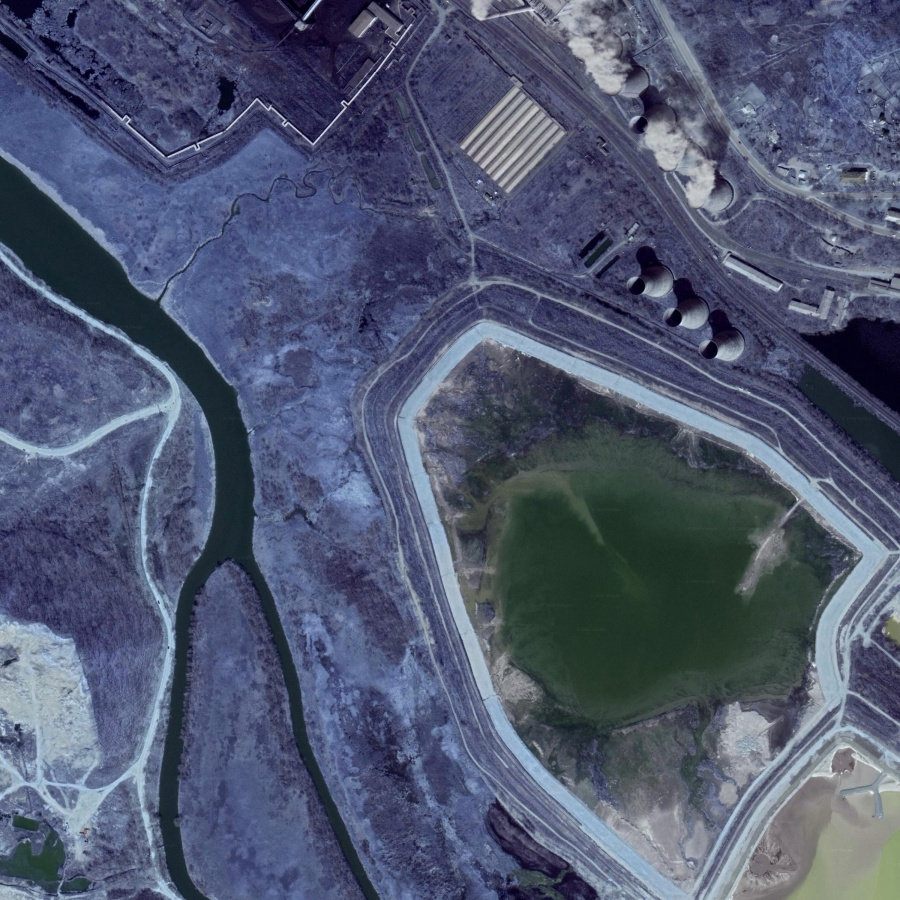PowerPlant: (565, 1, 779, 374)
